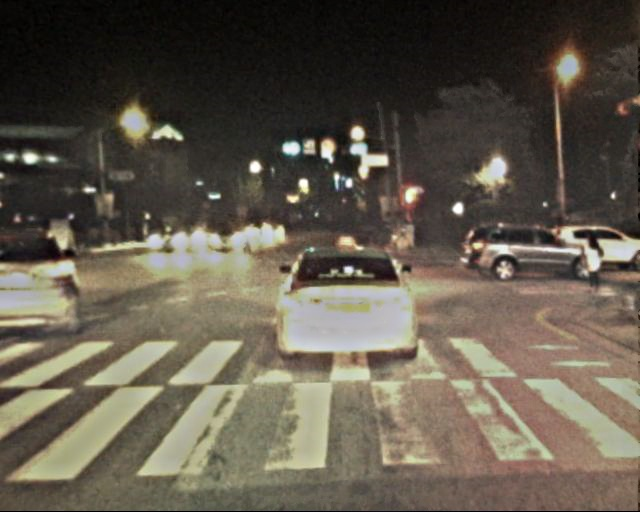person: (577, 231, 606, 302)
